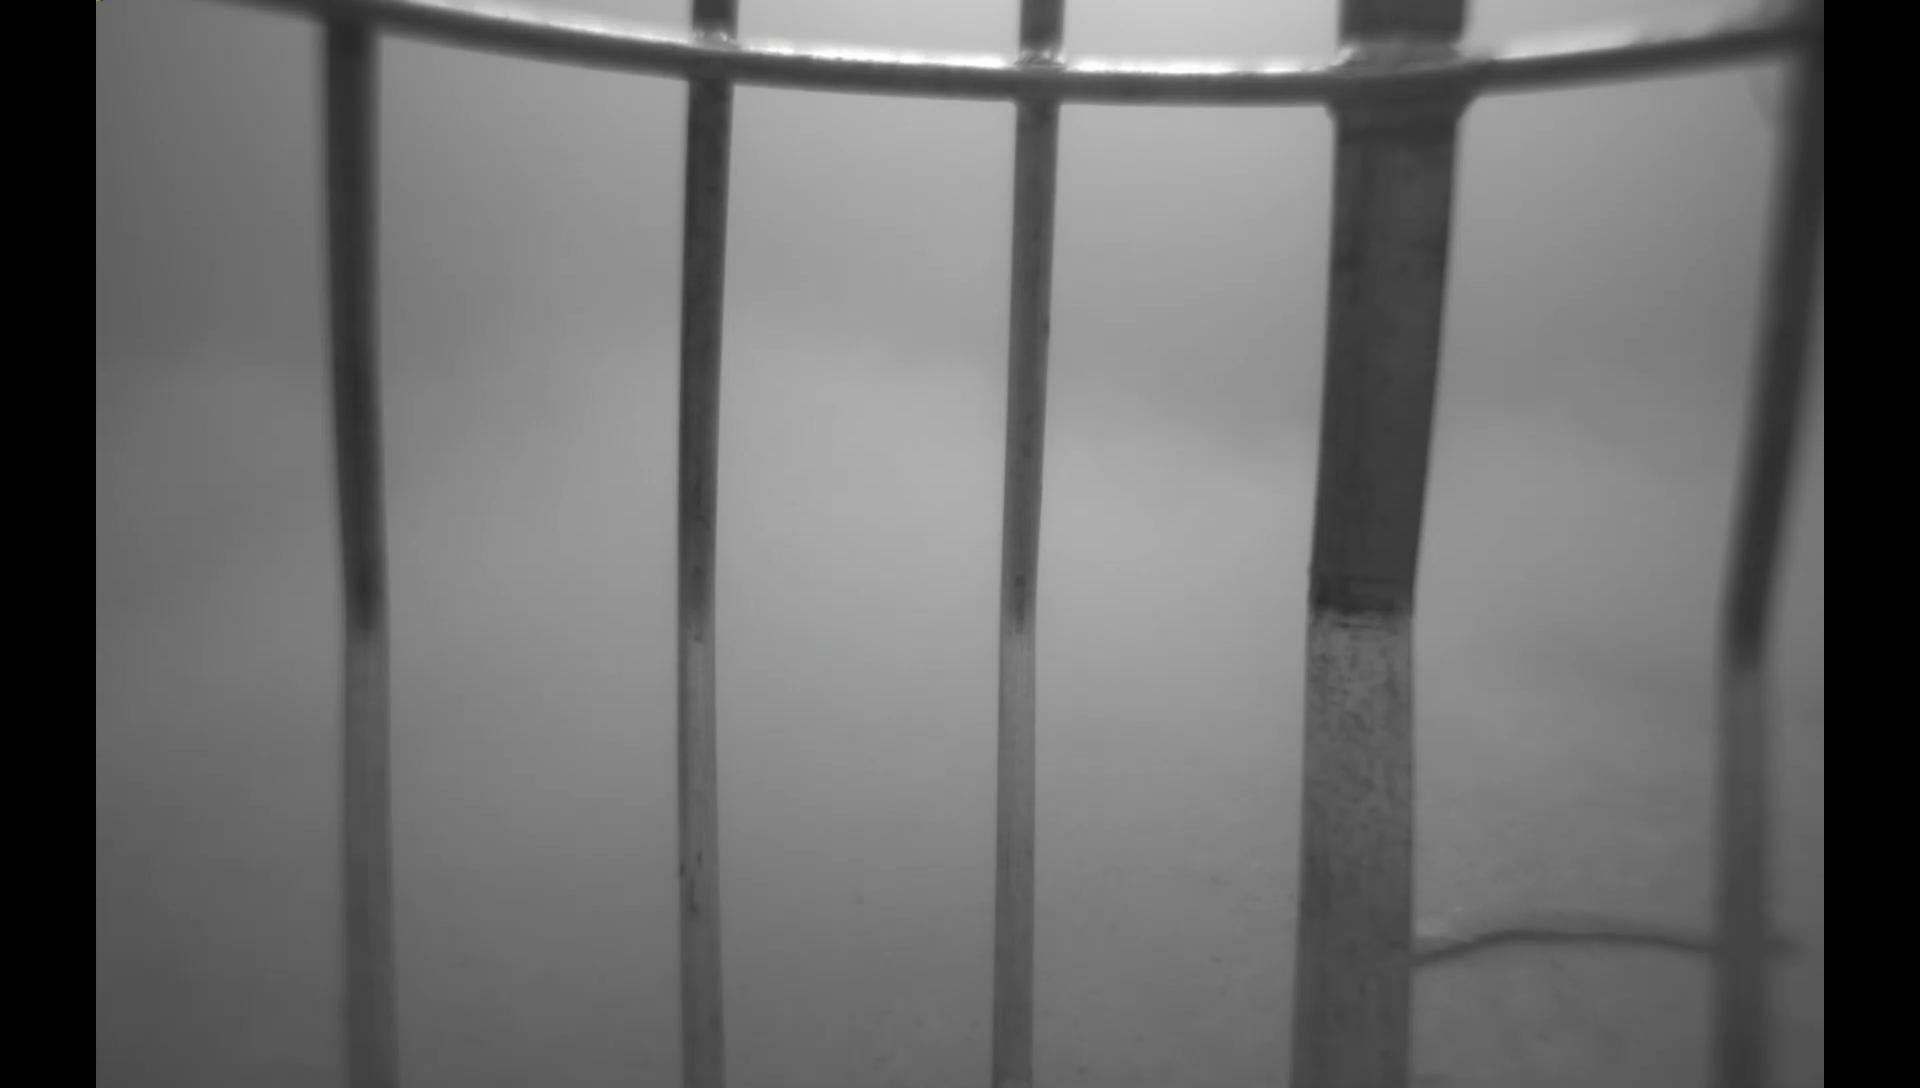OPHICHTHUSPUNCTICEPS-143150402: (1408, 816, 1813, 960)
